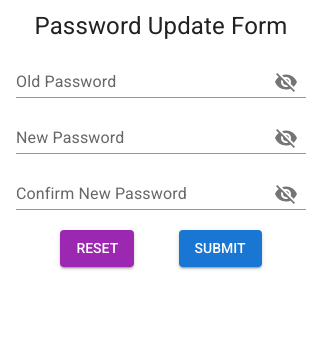
PasswordUpdateForm component › Reset button › clicking reset button will clear the errors
Type "a" into the password field labelled "Old Password" at (137, 82), box 16,66 -> 258,98
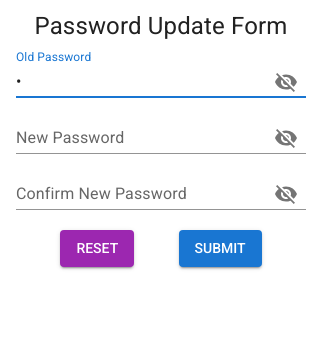
Type "a" into the password field labelled "New Password" at (137, 138), box 16,122 -> 258,154
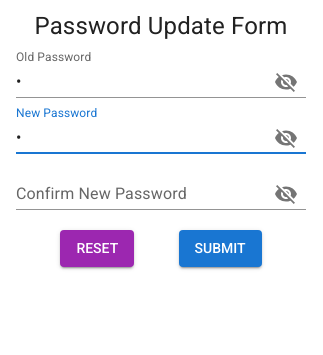
Type "a" into the password field labelled "Confirm New Password" at (137, 194), box 16,178 -> 258,210
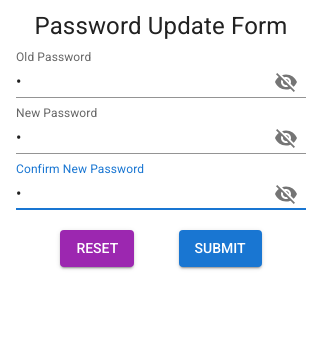
Click the button "Submit" at (220, 248), box 179,230 -> 262,266
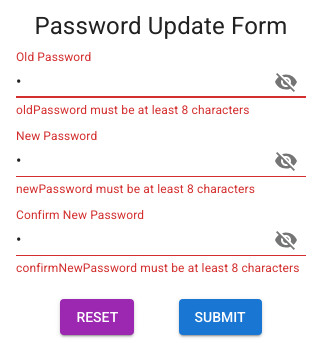
Check: the text "oldPassword must be at least 8 characters" is shown, box 16,103 -> 250,117
Check: the text "newPassword must be at least 8 characters" is shown, box 16,182 -> 255,196
Check: the text "confirmNewPassword must be at least 8 characters" is shown, box 16,259 -> 306,279
Click the button "Reset" at (97, 317), box 60,299 -> 134,335
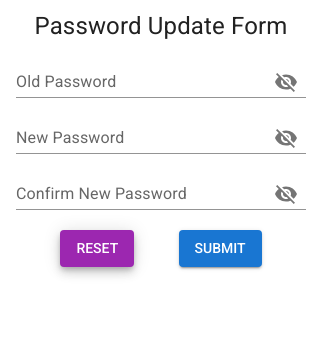
Check: the text "oldPassword must be at least 8 characters" is gone
